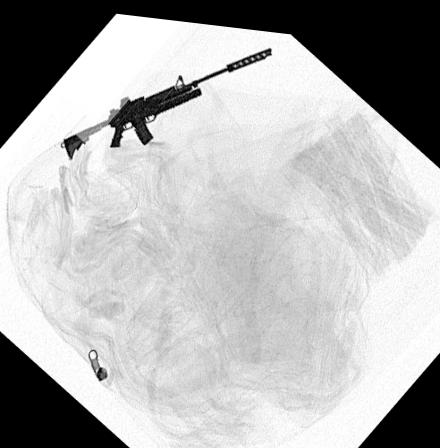Gun: (61, 35, 275, 160)
